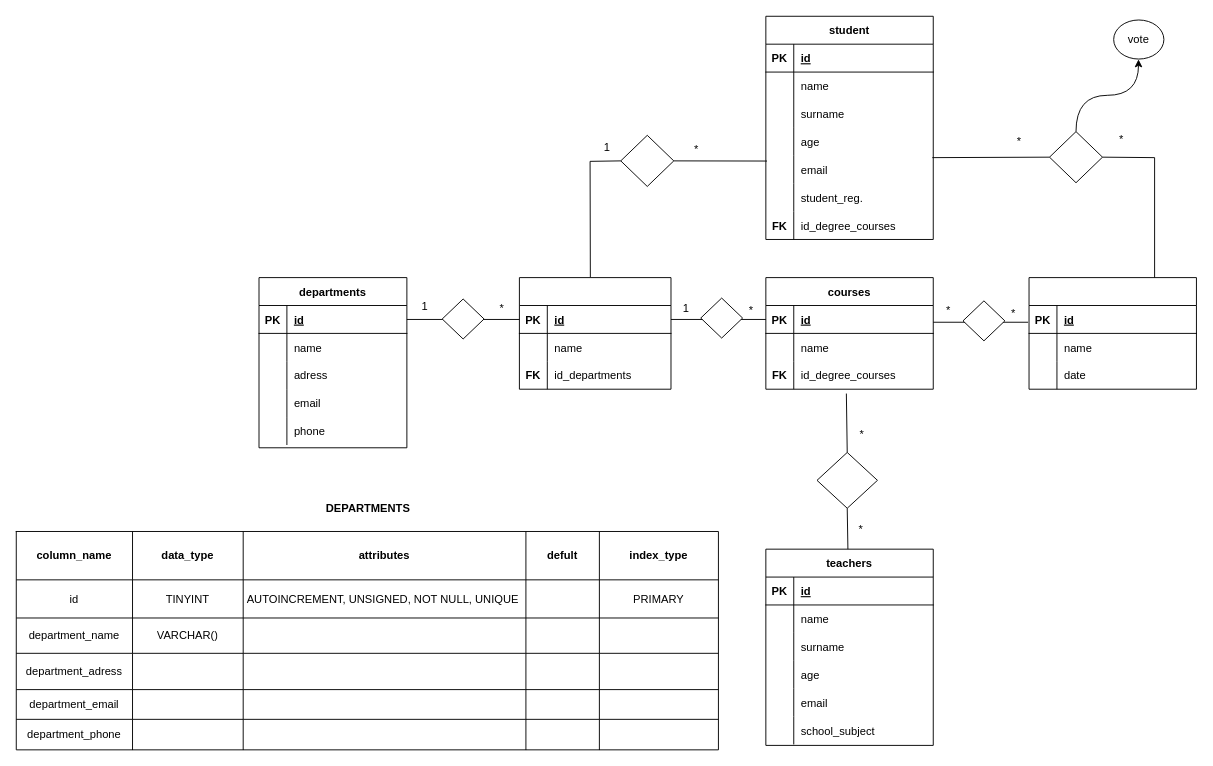
Image size: 1213x766. Some labels were removed from this diagram. The box of each missing label's shape, as (x1, y1, x2, y2) in pixels:
degree_courses: (518, 277, 671, 389)
exam: (1028, 277, 1196, 389)
